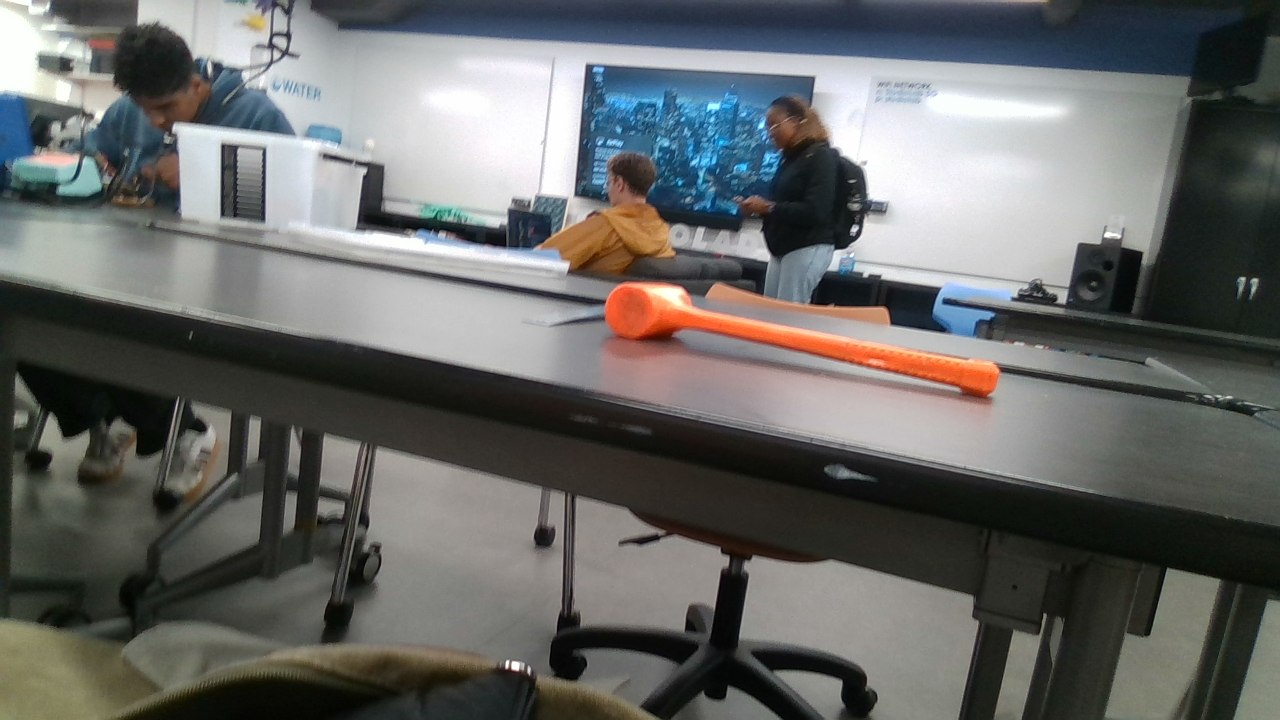Orange Hammer: (605, 282, 1000, 396)
